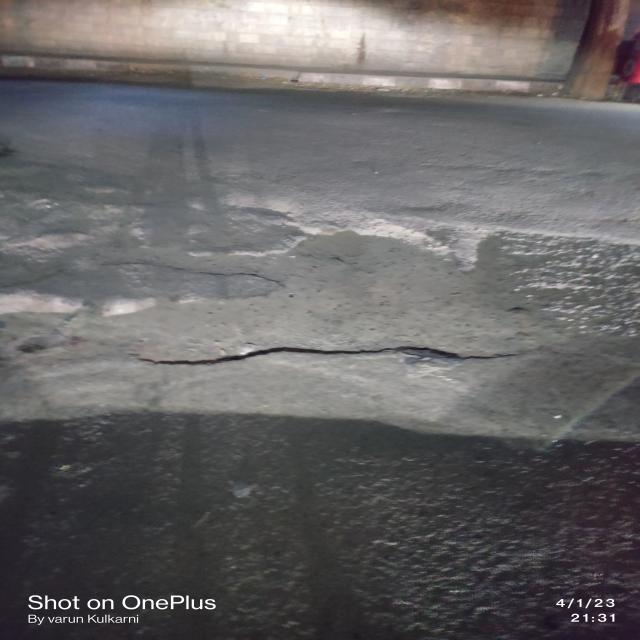potholes: (63, 289, 575, 366)
